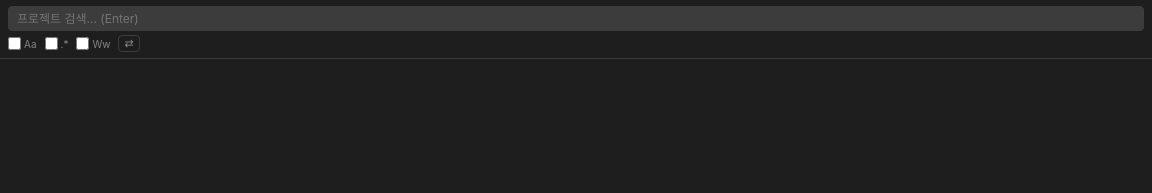
Test: SearchPanel › 검색 결과 파일명이 표시된다
This screenshot has width=1152, height=193.
In the field with placeholder "프로젝트 검색... (Enter)": x=576, y=18 [8,6,1144,31], type "hello"
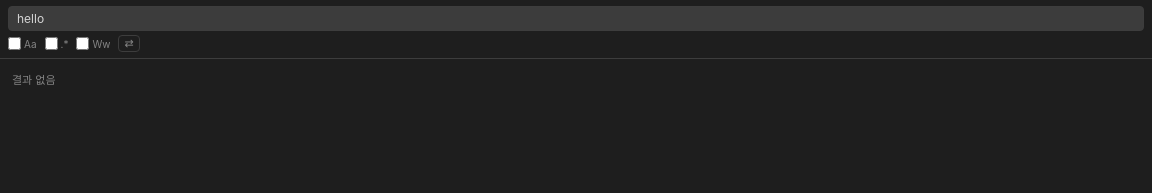
Press Enter in the field with placeholder "프로젝트 검색... (Enter)", box [8,6,1144,31]
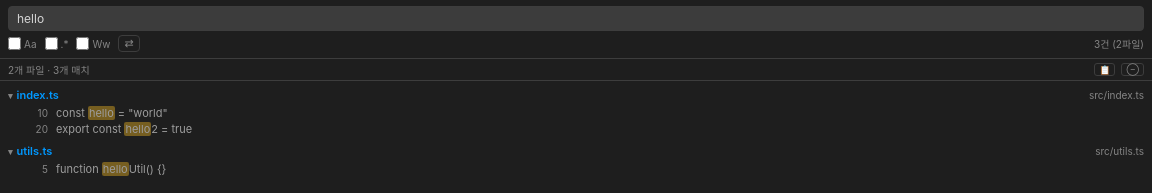
Expected: the text "index.ts" is shown, [16,88,59,102]
Expected: the text "utils.ts" is shown, [16,144,52,158]
